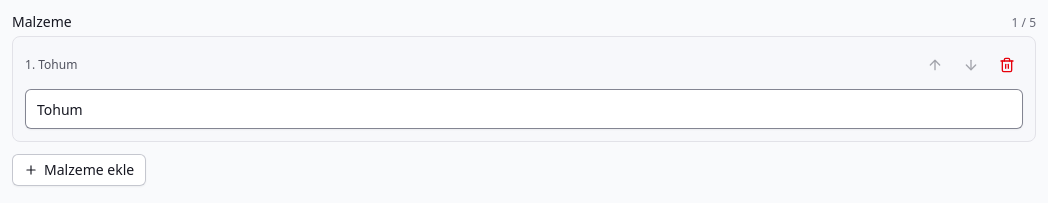
it: StringListField › focuses "add" after the only row is deleted
Click the button named "Tohum sil": click(1007, 65) [991,49,1023,81]
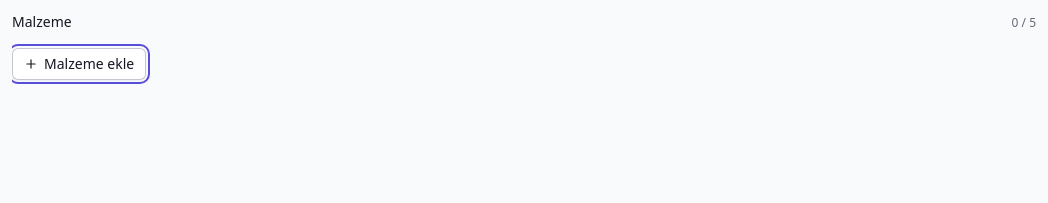
expect the field is gone: met
